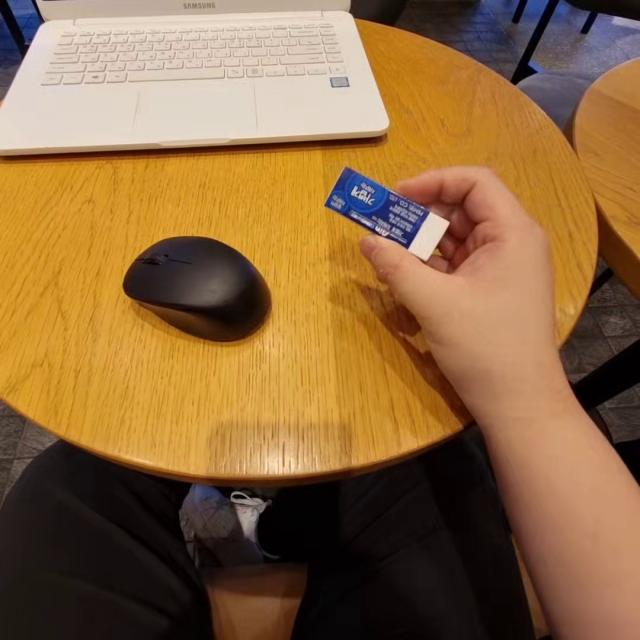eraser: (292, 173, 458, 270)
grab_eraser: (328, 164, 576, 392)
hand: (384, 159, 579, 371)
mouse: (110, 242, 282, 353)
